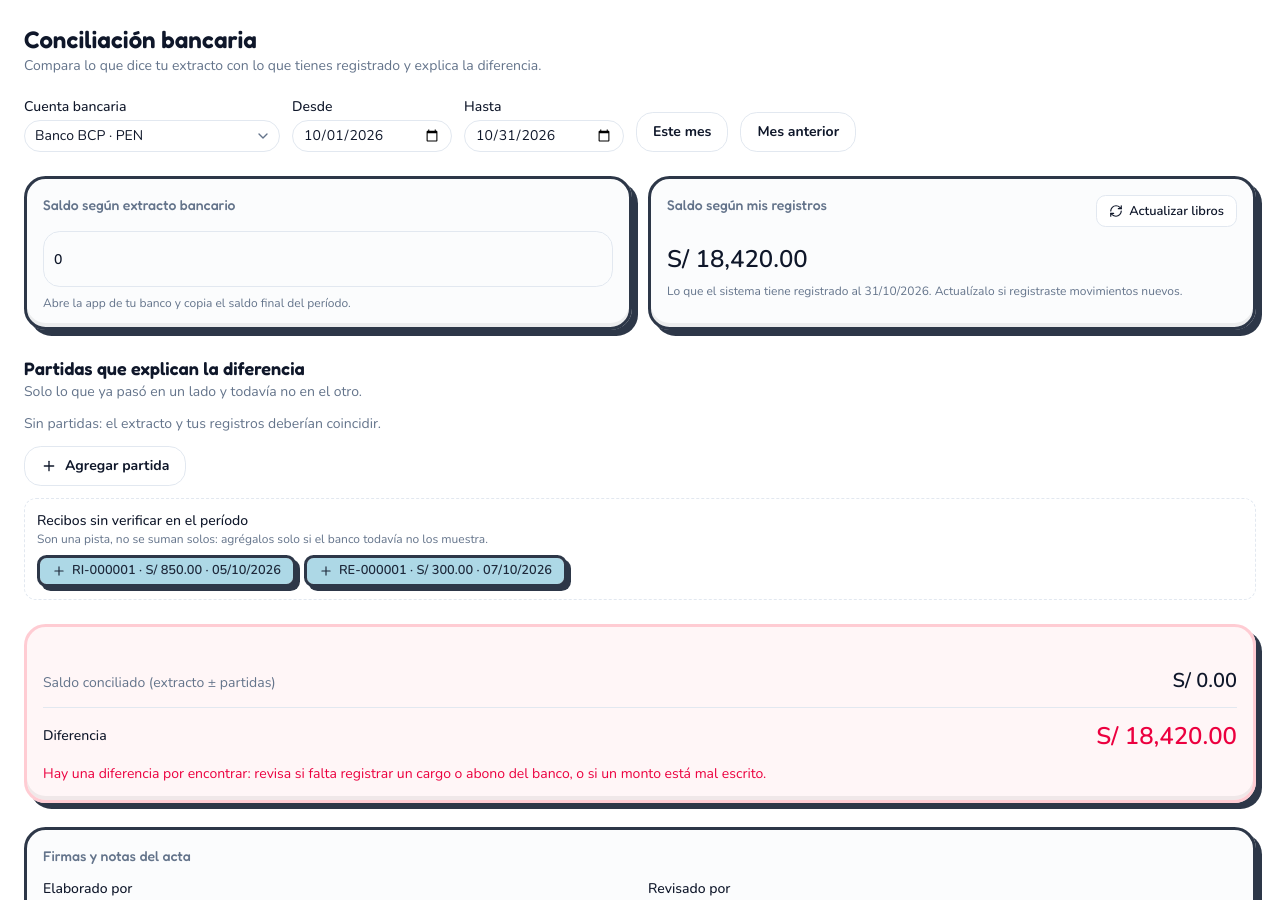
it: ConciliacionView › agrega una sugerencia como partida y recalcula en vivo
Click the button with aria-label "Agregar RI-000001 como partida" at (166, 571), box [37,555,296,587]
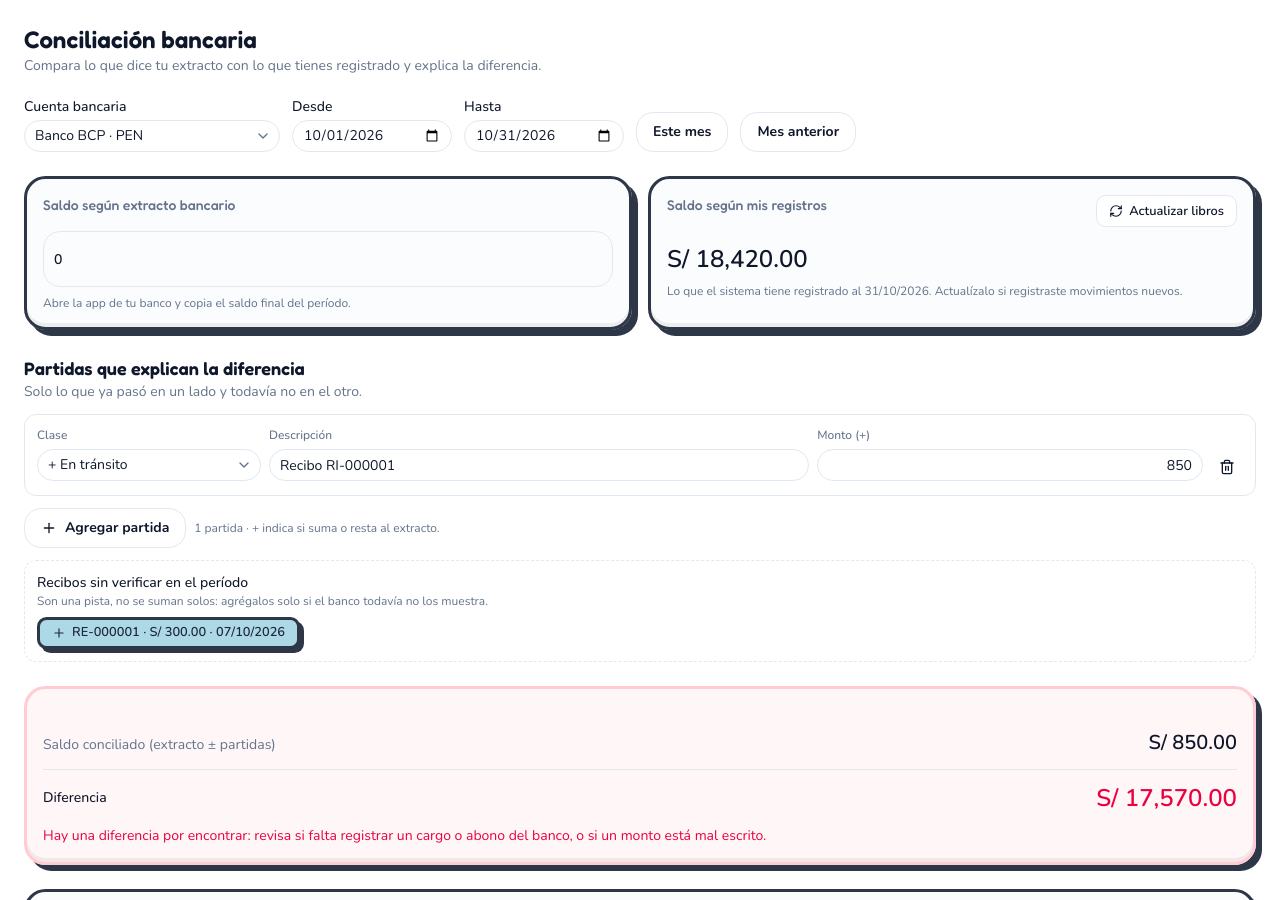
Expected: the field showing "Recibo RI-000001" is shown, [269,449,809,481]
Expected: the field showing "850" is shown, [817,449,1203,481]
